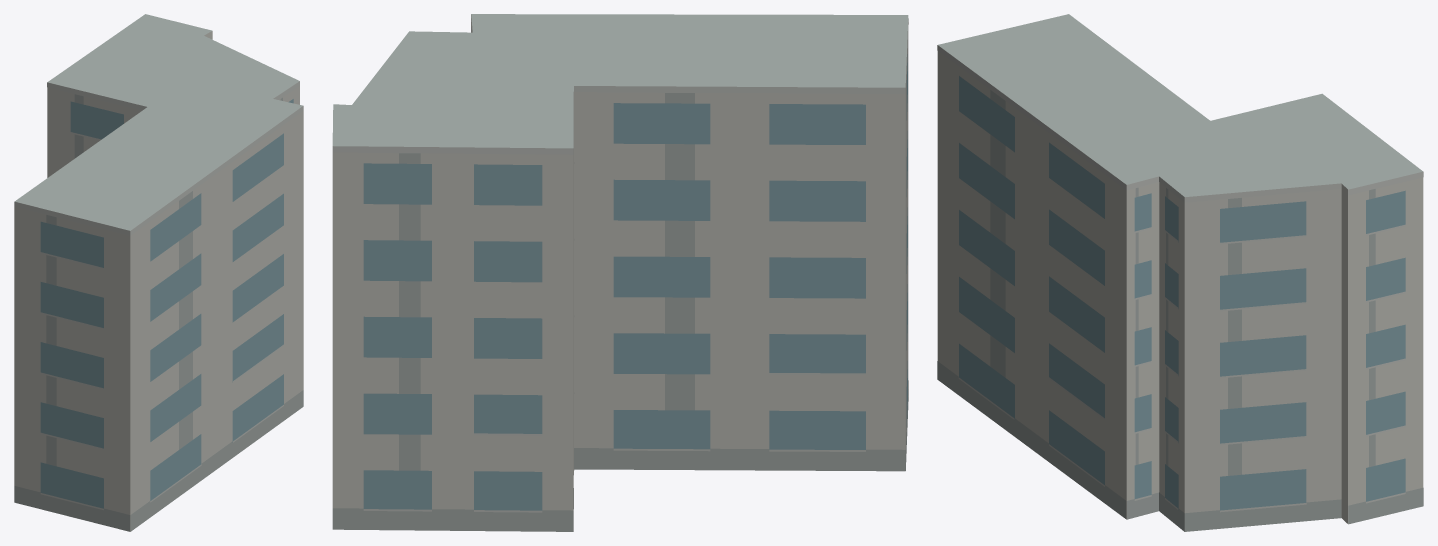
File: survey-upis-32626595.glb
The picture shows the model from 3 angles, left to right: view 1: azimuth 30°, elevation 25°; view 2: azimuth 150°, elevation 25°; view 3: azimuth 270°, elevation 25°; orthographic projection. The views are drawn at different scales.
Parts seen in each view (by area): view 1: survey-upis-32626595.tmp; view 2: survey-upis-32626595.tmp; view 3: survey-upis-32626595.tmp.
Part boxes in pixels (left/top/right/bottom): survey-upis-32626595.tmp: left=14, top=14, right=303, bottom=531; survey-upis-32626595.tmp: left=332, top=14, right=908, bottom=531; survey-upis-32626595.tmp: left=937, top=14, right=1423, bottom=531.
Bounding box in the file's own units: 16.99 × 14.47 × 19.05.
